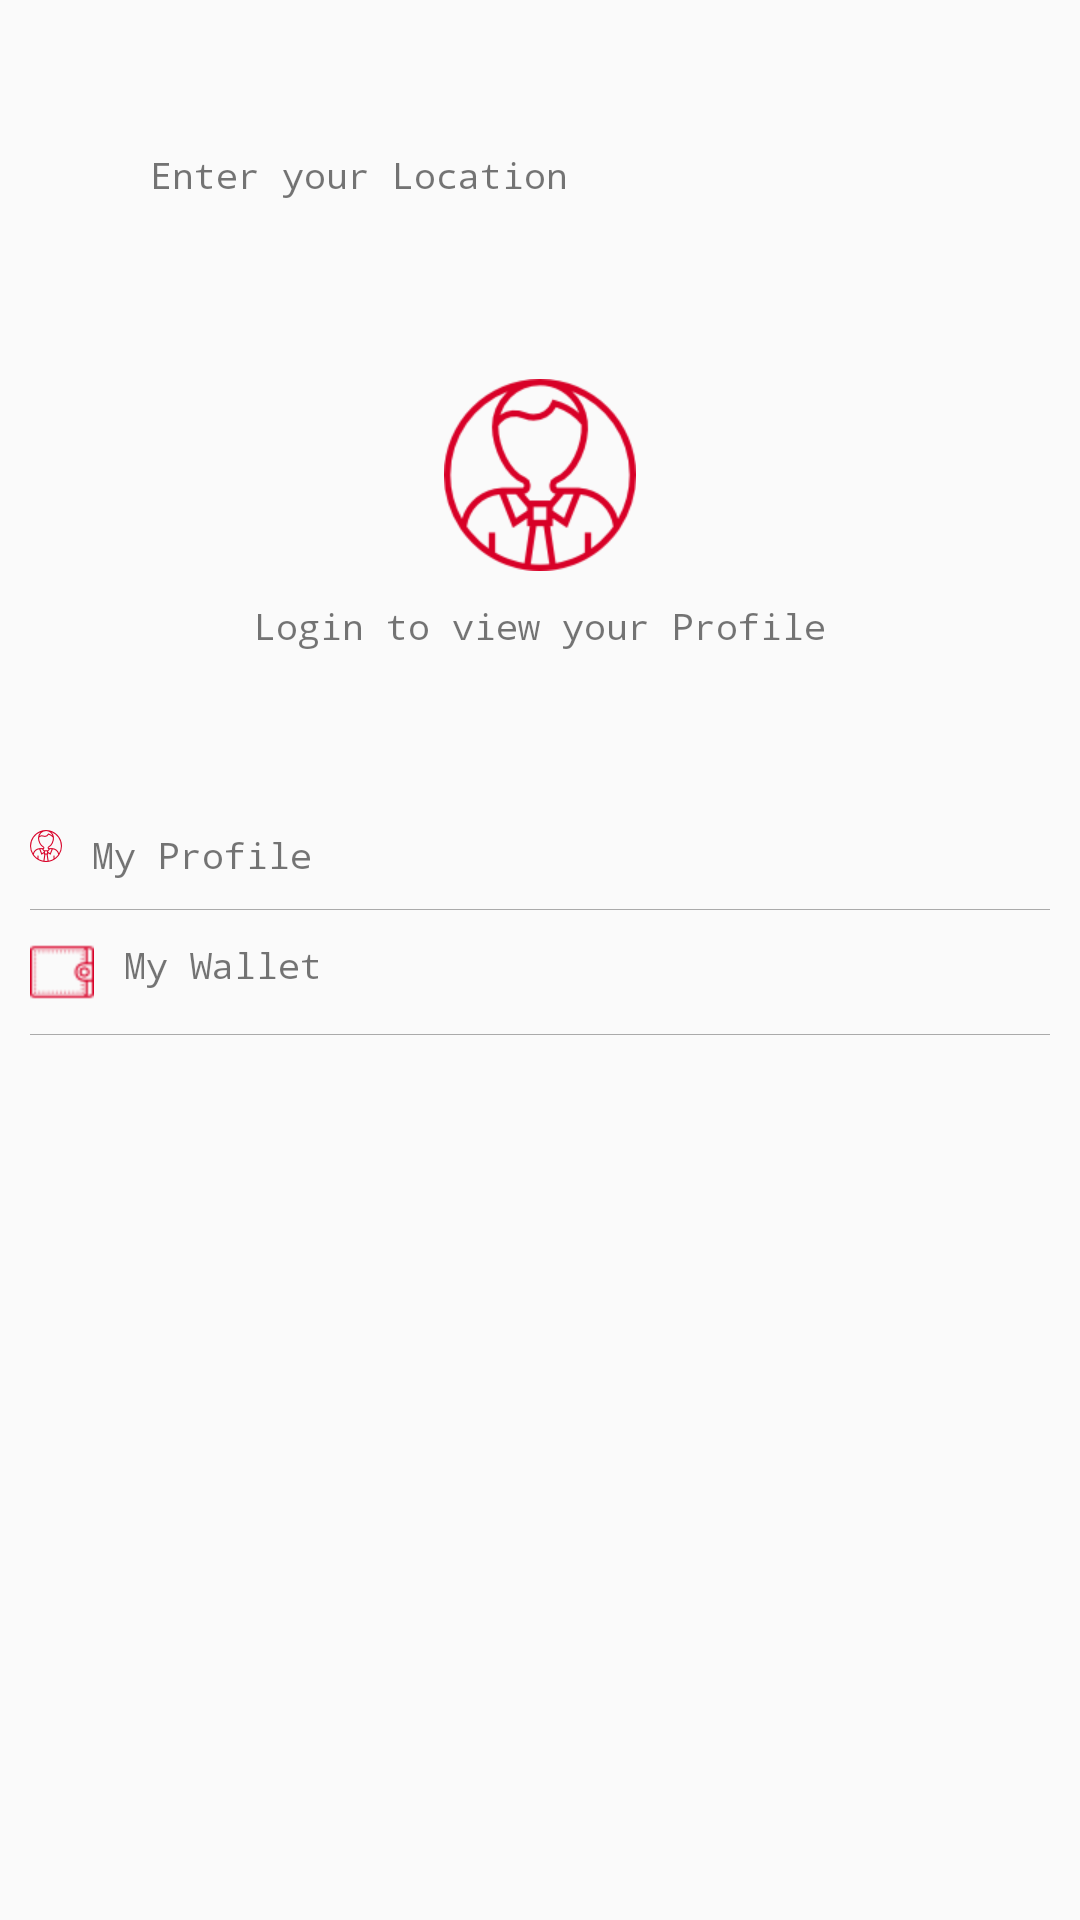

Screen size 1080 x 1920. Icon name, then its box in pixels as box=[x1, y1, x2, y2]:
user: box=[444, 379, 636, 571], box=[30, 830, 62, 862]
